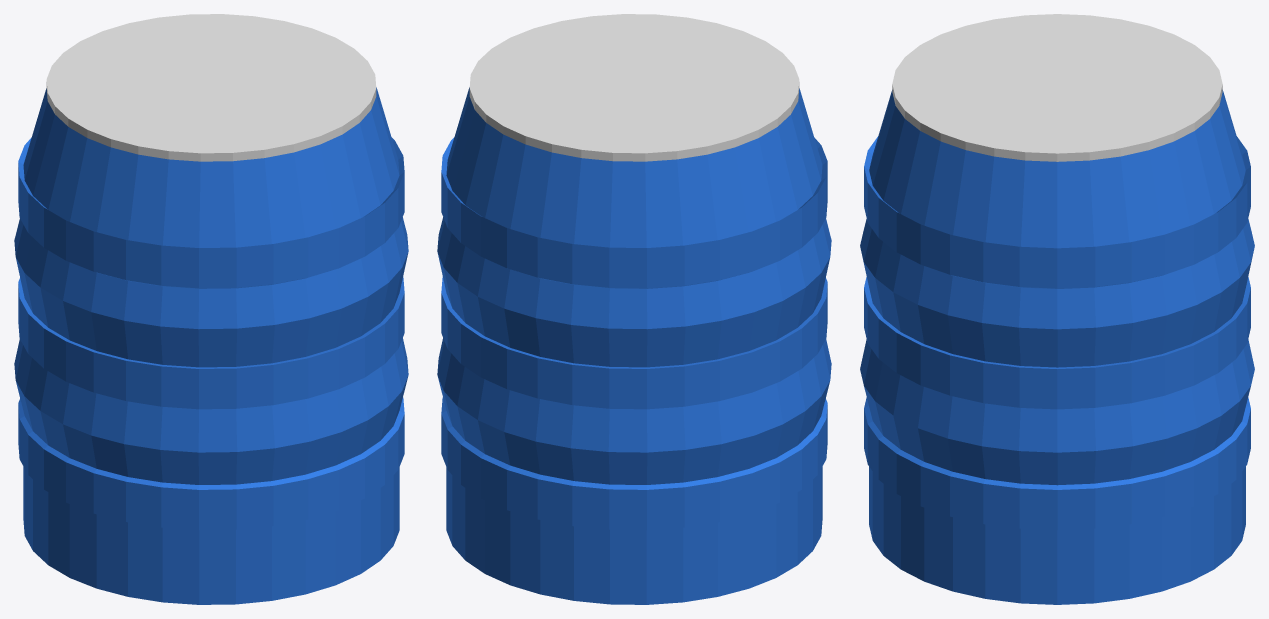
Rendered from Water_Tank.fbx.
3 renders of one model, left to right at view 1: azimuth 30°, elevation 25°; view 2: azimuth 150°, elevation 25°; view 3: azimuth 270°, elevation 25°, orthographic.
Visible parts, largest first — view 1: Cylinder; view 2: Cylinder; view 3: Cylinder.
Boxes of the visible parts, x1,y1,x2,y2 form: Cylinder: [14, 14, 408, 604]; Cylinder: [437, 14, 831, 604]; Cylinder: [860, 14, 1254, 604].
Bounding box in the file's own units: 913 × 1126 × 913.
